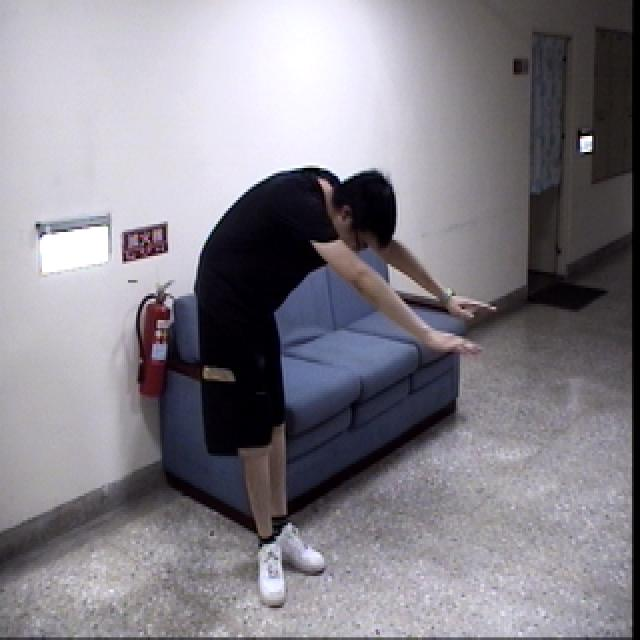bend: (188, 153, 496, 610)
